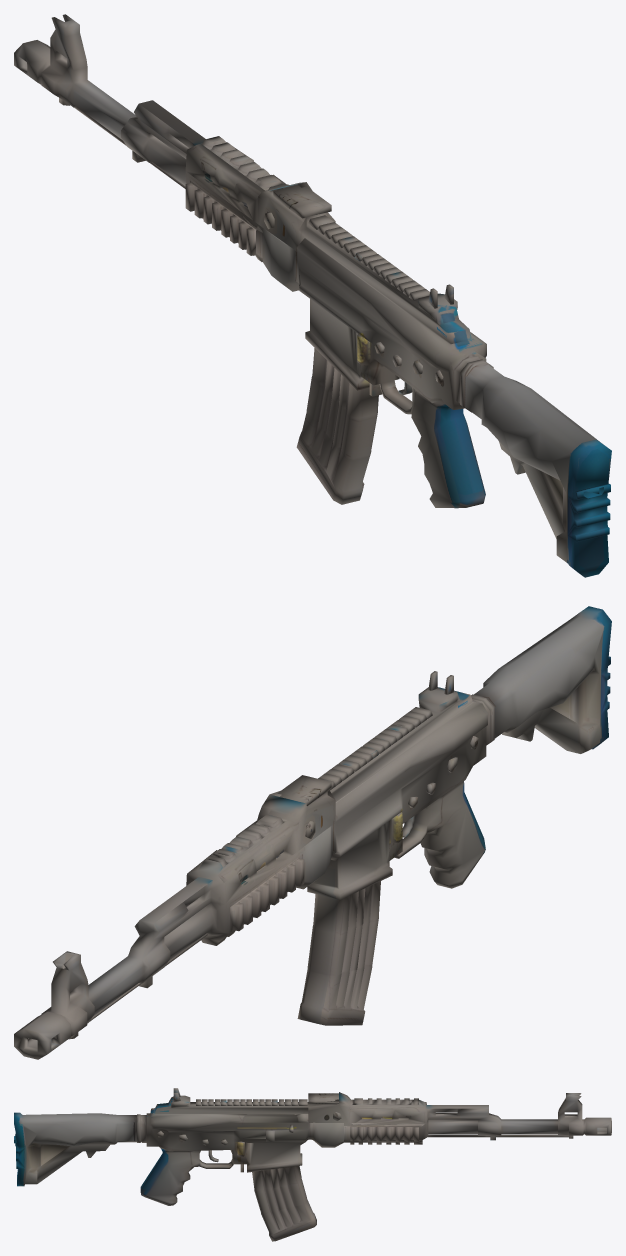
File: rifle_body.glb
The picture shows the model from 3 angles, top to bottom: view 1: azimuth 30°, elevation 25°; view 2: azimuth 150°, elevation 25°; view 3: azimuth 270°, elevation 25°; orthographic projection. The views are drawn at different scales.
Visible parts, largest first — view 1: material; view 2: material; view 3: material.
Boxes of the visible parts, x1,y1,x2,y2 form: material: (14, 14, 611, 577); material: (14, 606, 611, 1059); material: (14, 1088, 611, 1241).
Bounding box in the file's own units: 0.1308 × 0.5207 × 1.9.
1 material, 1 textured.
